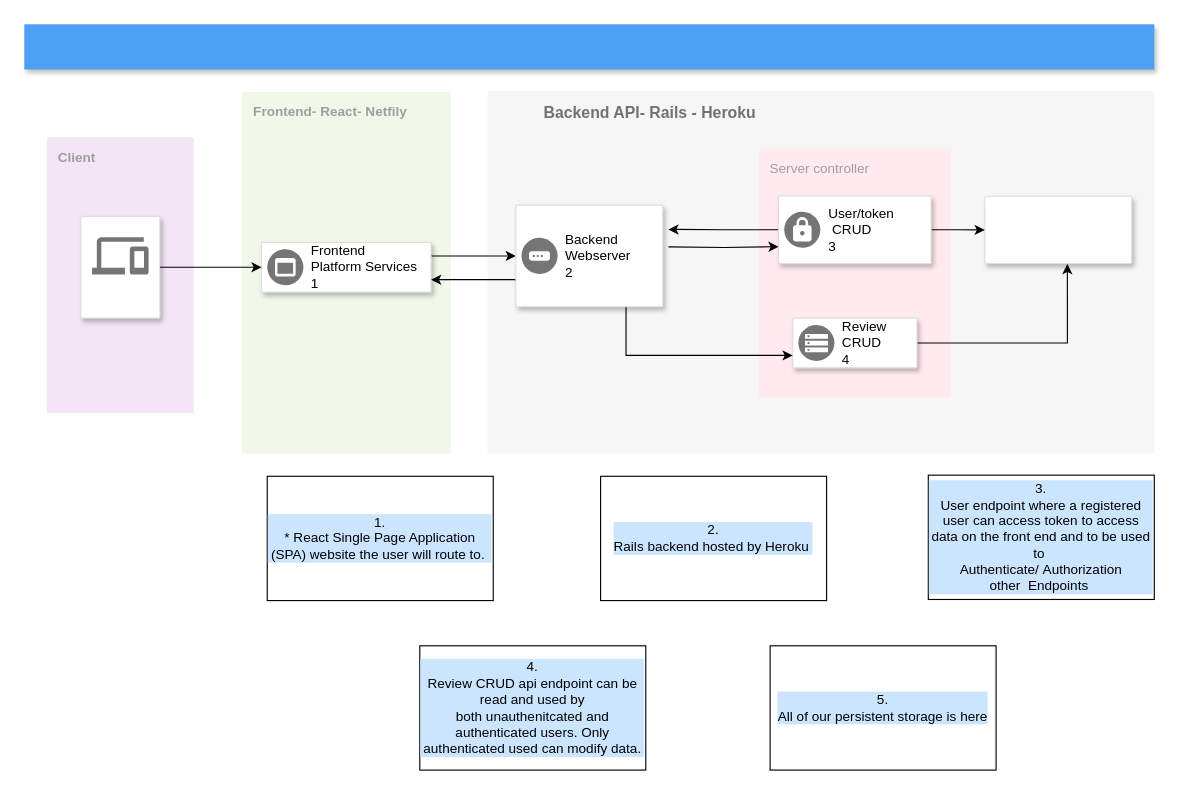
The diagram is 1180 pixels wide and 790 high, and some of its shapes have lost their labels. The shapes that lost their labels are listed below. From the top down, each one's centre as x and y in pixels, then its label:
At [590,48]: "Architecture: Guild Reviews".
At [1058,231]: "PostgrSQL Database 5".
At [121,268]: "Web Client".
